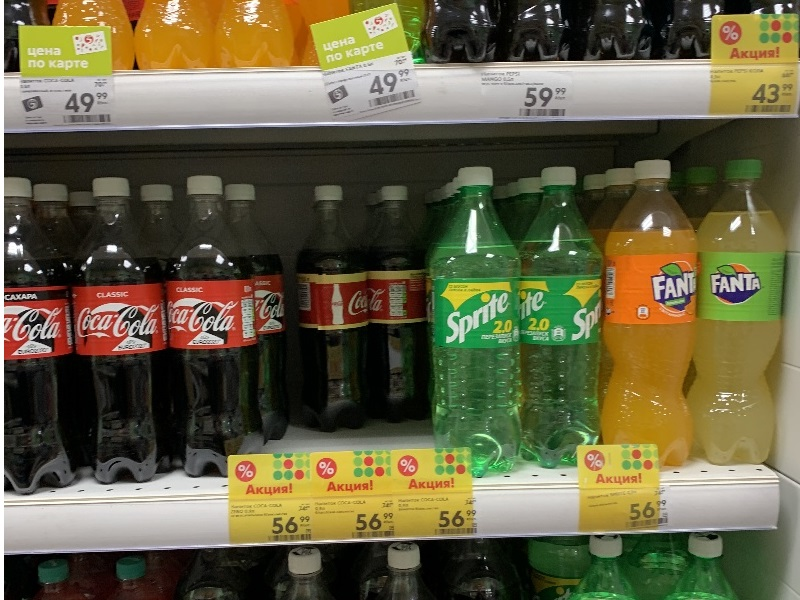lemonade: (65, 177, 177, 493), (427, 167, 527, 486), (160, 174, 260, 489), (512, 164, 610, 480), (604, 159, 705, 465), (694, 157, 789, 474), (1, 179, 84, 502), (286, 179, 372, 437), (357, 182, 437, 426)
